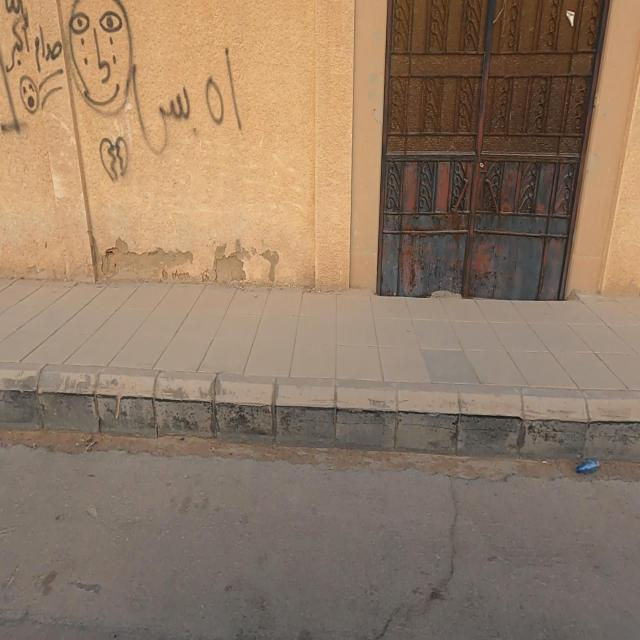Graffiti: (1, 1, 243, 182)
